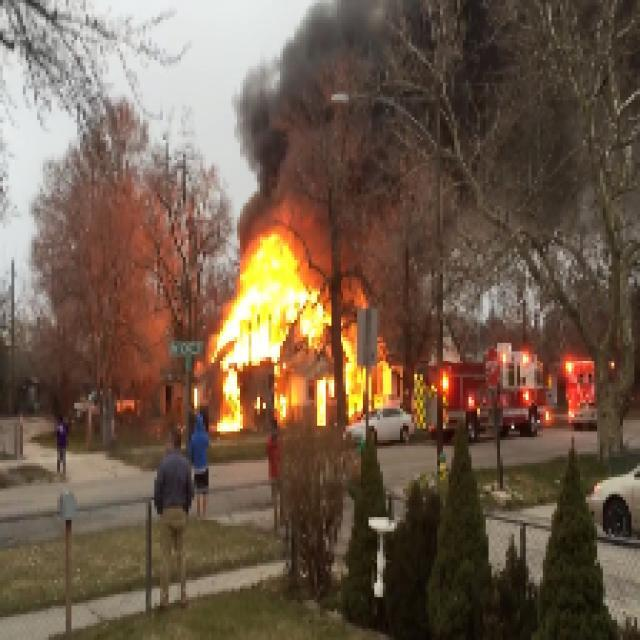Fire: (204, 242, 338, 438)
